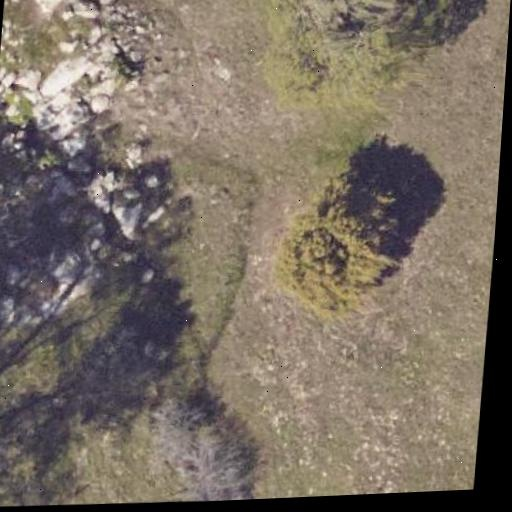tree-top: (233, 0, 465, 126), (262, 183, 417, 333), (120, 390, 273, 505)
